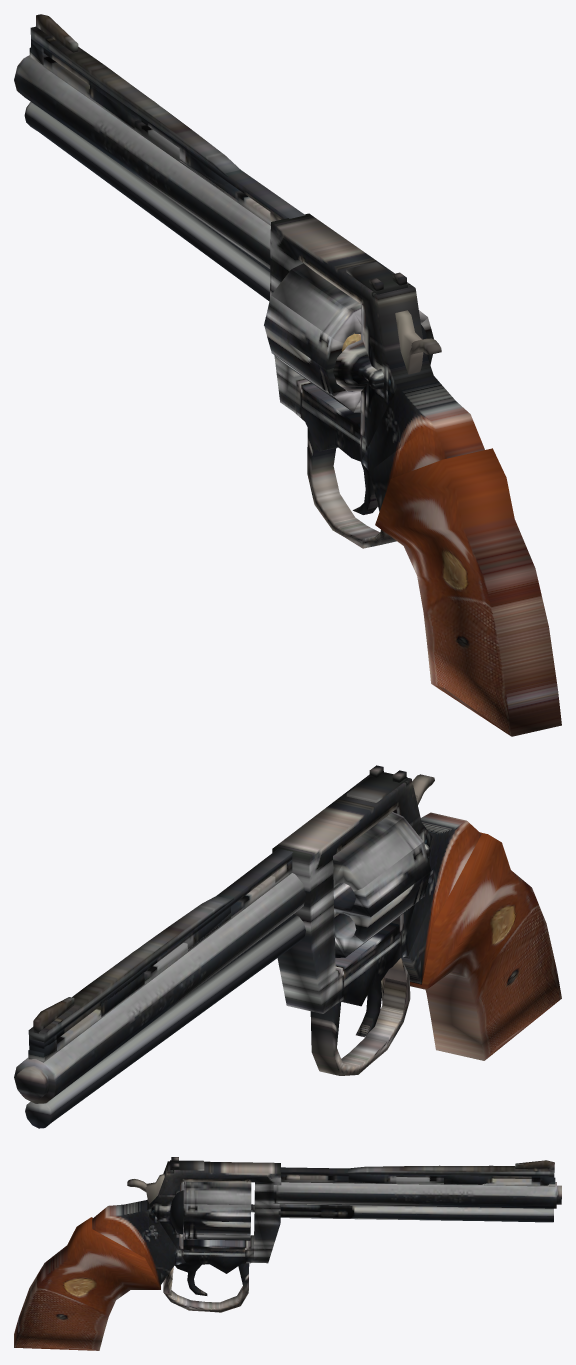
File: python_world.fbx
The picture shows the model from 3 angles, top to bottom: view 1: azimuth 30°, elevation 25°; view 2: azimuth 150°, elevation 25°; view 3: azimuth 270°, elevation 25°; orthographic projection. The views are drawn at different scales.
Parts seen in each view (by area): view 1: PythonGrip, PythonBody, PythonBarrel, PythonFrontSight, PythonCylinder, PythonTriggerGuard, PythonBack, PythonHammer, PythonRearSight; view 2: PythonGrip, PythonBody, PythonBarrel, PythonFrontSight, PythonCylinder, PythonTriggerGuard, PythonRearSight, PythonTrigger; view 3: PythonGrip, PythonBody, PythonBarrel, PythonFrontSight, PythonCylinder, PythonTriggerGuard, PythonLoadingGate, PythonHammer, PythonRearSight, PythonTrigger.
Part boxes in pixels (bbox=[...]): PythonGrip: bbox=[375, 448, 561, 736]; PythonBody: bbox=[270, 213, 484, 511]; PythonBarrel: bbox=[14, 55, 270, 301]; PythonFrontSight: bbox=[29, 14, 305, 225]; PythonCylinder: bbox=[264, 263, 433, 412]; PythonTriggerGuard: bbox=[307, 428, 396, 548]; PythonBack: bbox=[333, 339, 383, 391]; PythonHammer: bbox=[395, 310, 441, 374]; PythonRearSight: bbox=[346, 262, 407, 294]; PythonGrip: bbox=[410, 832, 561, 1060]; PythonBody: bbox=[272, 774, 481, 1013]; PythonBarrel: bbox=[14, 873, 306, 1128]; PythonFrontSight: bbox=[28, 848, 293, 1062]; PythonCylinder: bbox=[333, 812, 431, 957]; PythonTriggerGuard: bbox=[310, 958, 410, 1075]; PythonRearSight: bbox=[346, 765, 407, 802]; PythonTrigger: bbox=[356, 969, 388, 1037]; PythonGrip: bbox=[14, 1217, 160, 1350]; PythonBody: bbox=[92, 1161, 281, 1285]; PythonBarrel: bbox=[273, 1182, 561, 1222]; PythonFrontSight: bbox=[279, 1160, 555, 1186]; PythonCylinder: bbox=[183, 1181, 254, 1240]; PythonTriggerGuard: bbox=[163, 1263, 249, 1312]; PythonLoadingGate: bbox=[170, 1190, 183, 1234]; PythonHammer: bbox=[127, 1174, 164, 1203]; PythonRearSight: bbox=[170, 1157, 204, 1170]; PythonTrigger: bbox=[175, 1263, 207, 1295].
Bounding box in the file's own units: 1.7 × 5.25 × 13.98.
